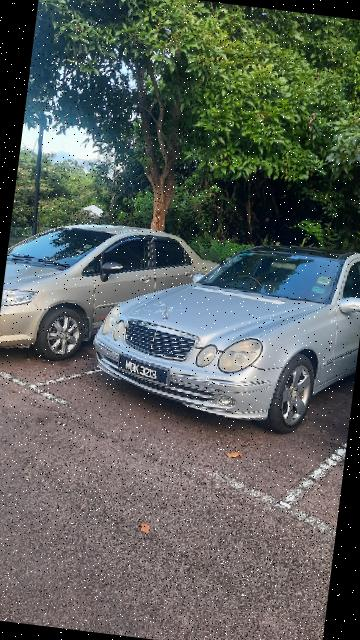License_Plate: (111, 353, 176, 391)
car: (87, 219, 360, 447)
